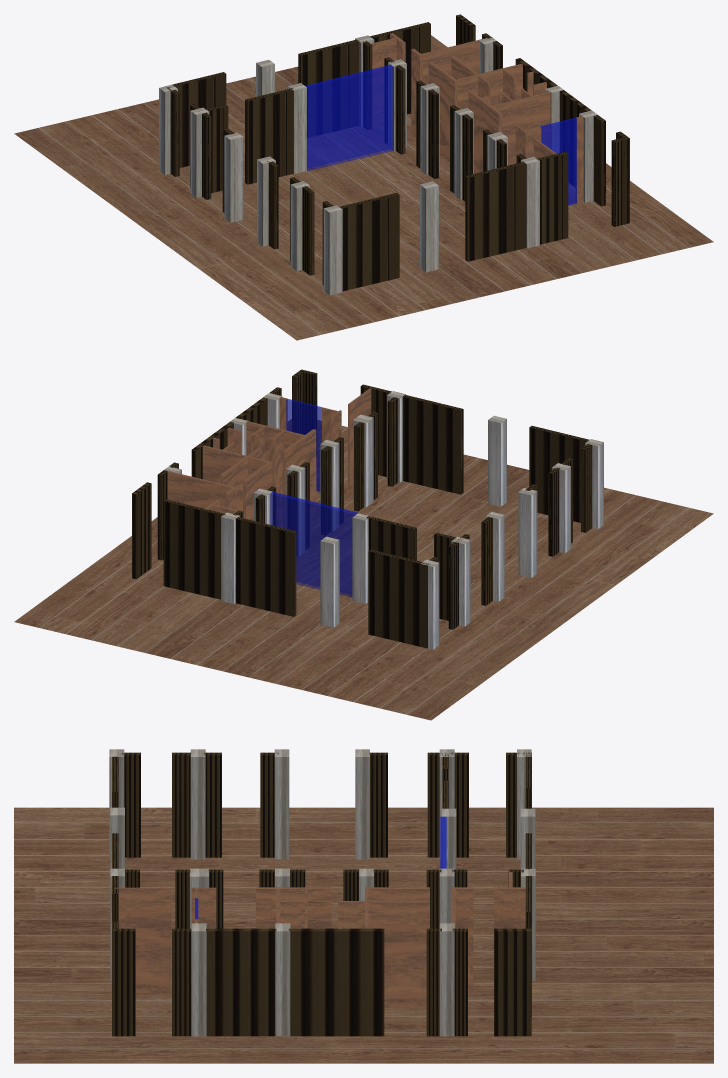
Rendered from 养老社区2_2_1_1.glb.
3 renders of one model, top to bottom at view 1: azimuth 30°, elevation 25°; view 2: azimuth 150°, elevation 25°; view 3: azimuth 270°, elevation 25°, orthographic. The views are drawn at different scales.
Parts seen in each view (by area): view 1: 5e90ddeaa84818a9046c78ced08030ae.008, 立方体.040, 立方体.120, 立方体.028, 立方体.029, 立方体.042, 立方体.039, 立方体.027, 立方体.043, 立方体.063, 立方体.020, 立方体.017 (+35 smaller); view 2: 5e90ddeaa84818a9046c78ced08030ae.008, 立方体.028, 立方体.042, 立方体.043, 立方体.044, 立方体.040, 立方体.120, 立方体.029, 立方体.005, 立方体.026, 立方体.018, 立方体.025 (+36 smaller); view 3: 5e90ddeaa84818a9046c78ced08030ae.008, 立方体.001, 立方体, 立方体.058, 立方体.059, 立方体.005, 立方体.007, 立方体.054, 立方体.006, 立方体.030, 立方体.034, 立方体.010 (+30 smaller).
Part boxes in pixels (bbox=[...]): 5e90ddeaa84818a9046c78ced08030ae.008: bbox=[14, 35, 713, 340]; 立方体.040: bbox=[306, 65, 393, 170]; 立方体.120: bbox=[306, 65, 392, 170]; 立方体.028: bbox=[465, 162, 526, 261]; 立方体.029: bbox=[339, 193, 399, 291]; 立方体.042: bbox=[298, 39, 359, 137]; 立方体.039: bbox=[245, 88, 293, 184]; 立方体.027: bbox=[536, 151, 568, 244]; 立方体.043: bbox=[166, 72, 226, 167]; 立方体.063: bbox=[492, 91, 551, 165]; 立方体.020: bbox=[323, 205, 342, 295]; 立方体.017: bbox=[224, 132, 243, 222]; 5e90ddeaa84818a9046c78ced08030ae.008: bbox=[14, 419, 713, 720]; 立方体.028: bbox=[402, 394, 463, 494]; 立方体.042: bbox=[235, 517, 296, 616]; 立方体.043: bbox=[368, 549, 429, 648]; 立方体.044: bbox=[163, 499, 225, 599]; 立方体.040: bbox=[270, 492, 357, 596]; 立方体.120: bbox=[270, 492, 357, 596]; 立方体.029: bbox=[529, 425, 589, 522]; 立方体.005: bbox=[132, 482, 151, 579]; 立方体.026: bbox=[320, 536, 339, 627]; 立方体.018: bbox=[518, 488, 537, 577]; 立方体.025: bbox=[488, 415, 506, 506]; 5e90ddeaa84818a9046c78ced08030ae.008: bbox=[14, 807, 713, 1063]; 立方体.001: bbox=[288, 928, 384, 1036]; 立方体: bbox=[206, 928, 276, 1036]; 立方体.058: bbox=[365, 901, 429, 1007]; 立方体.059: bbox=[114, 887, 171, 993]; 立方体.005: bbox=[494, 928, 531, 1036]; 立方体.007: bbox=[112, 928, 135, 1036]; 立方体.054: bbox=[256, 887, 331, 928]; 立方体.006: bbox=[172, 928, 191, 1036]; 立方体.030: bbox=[172, 752, 190, 857]; 立方体.034: bbox=[369, 752, 387, 857]; 立方体.010: bbox=[191, 923, 206, 1036].
Size of the model in its own units: 1 by 0.1957 by 1.17.
Materials: 5 (4 with a texture image).
